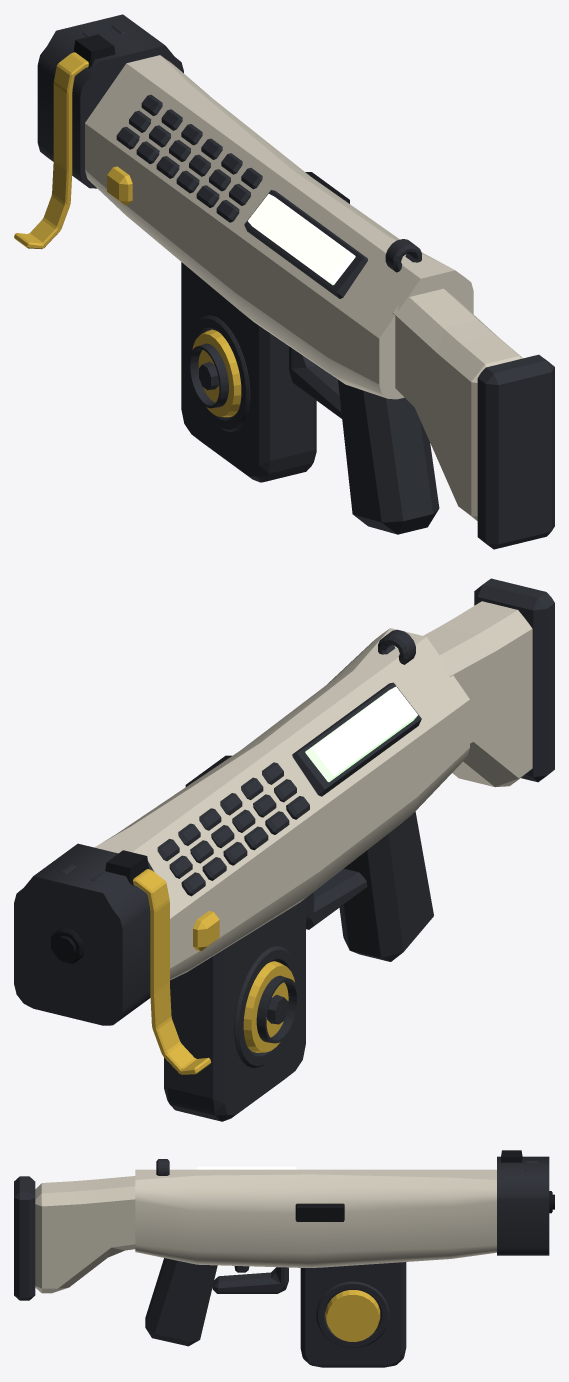
The model's file is w_smg@smg_label.glb.
3 renders of one model, top to bottom at view 1: azimuth 30°, elevation 25°; view 2: azimuth 150°, elevation 25°; view 3: azimuth 270°, elevation 25°, orthographic. The views are drawn at different scales.
Visible parts, largest first — view 1: body_wzA, mag_wzB, stock_wzA, stock_wzB, grip_wzB, nose_wzB, keys_wzB, tape_wzN, screen_wzN, screen_wzB, mag_wzN, guard_wzB (+3 smaller); view 2: body_wzA, mag_wzB, nose_wzB, stock_wzA, grip_wzB, keys_wzB, stock_wzB, tape_wzN, screen_wzN, screen_wzB, mag_wzN, guard_wzB (+3 smaller); view 3: body_wzA, stock_wzA, mag_wzB, nose_wzB, grip_wzB, stock_wzB, mag_wzN, guard_wzB, trim_wzN, nose_wzN, screen_wzN, sight_wzN.
Part boxes in pixels (box(x1,y1,x2,y2)): body_wzA: box(85, 55, 473, 399); mag_wzB: box(181, 262, 316, 482); stock_wzA: box(392, 288, 522, 520); stock_wzB: box(477, 354, 554, 549); grip_wzB: box(338, 379, 439, 534); nose_wzB: box(37, 14, 183, 188); keys_wzB: box(116, 94, 262, 222); tape_wzN: box(14, 52, 88, 249); screen_wzN: box(248, 194, 355, 285); screen_wzB: box(244, 190, 367, 298); mag_wzN: box(192, 329, 241, 417); guard_wzB: box(289, 346, 341, 418); body_wzA: box(94, 628, 469, 980); mag_wzB: box(164, 898, 305, 1121); nose_wzB: box(14, 843, 154, 1025); stock_wzA: box(423, 601, 532, 787); grip_wzB: box(339, 811, 433, 961); keys_wzB: box(157, 762, 309, 896); stock_wzB: box(474, 578, 554, 782); tape_wzN: box(133, 869, 211, 1074); screen_wzN: box(305, 686, 417, 782); screen_wzB: box(292, 682, 421, 796); mag_wzN: box(243, 961, 294, 1052); guard_wzB: box(306, 868, 367, 929); body_wzA: box(135, 1169, 496, 1267); stock_wzA: box(35, 1176, 135, 1293); mag_wzB: box(300, 1262, 406, 1367); nose_wzB: box(497, 1156, 549, 1255); grip_wzB: box(145, 1258, 217, 1346); stock_wzB: box(14, 1176, 35, 1300); mag_wzN: box(325, 1290, 380, 1341); guard_wzB: box(212, 1267, 288, 1293); trim_wzN: box(295, 1203, 344, 1221); nose_wzN: box(501, 1150, 554, 1213); screen_wzN: box(196, 1166, 296, 1169); sight_wzN: box(156, 1159, 537, 1175).
Bounding box in the file's own units: 0.1341 × 0.2705 × 0.6607.
